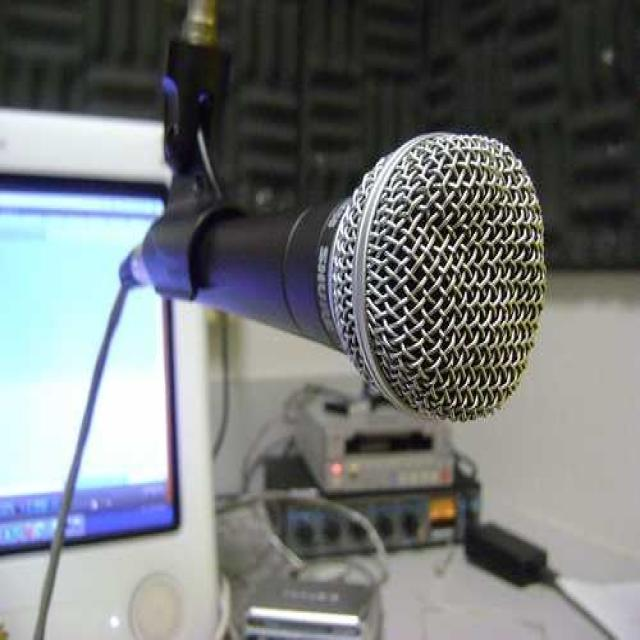microphone: (154, 118, 546, 422)
